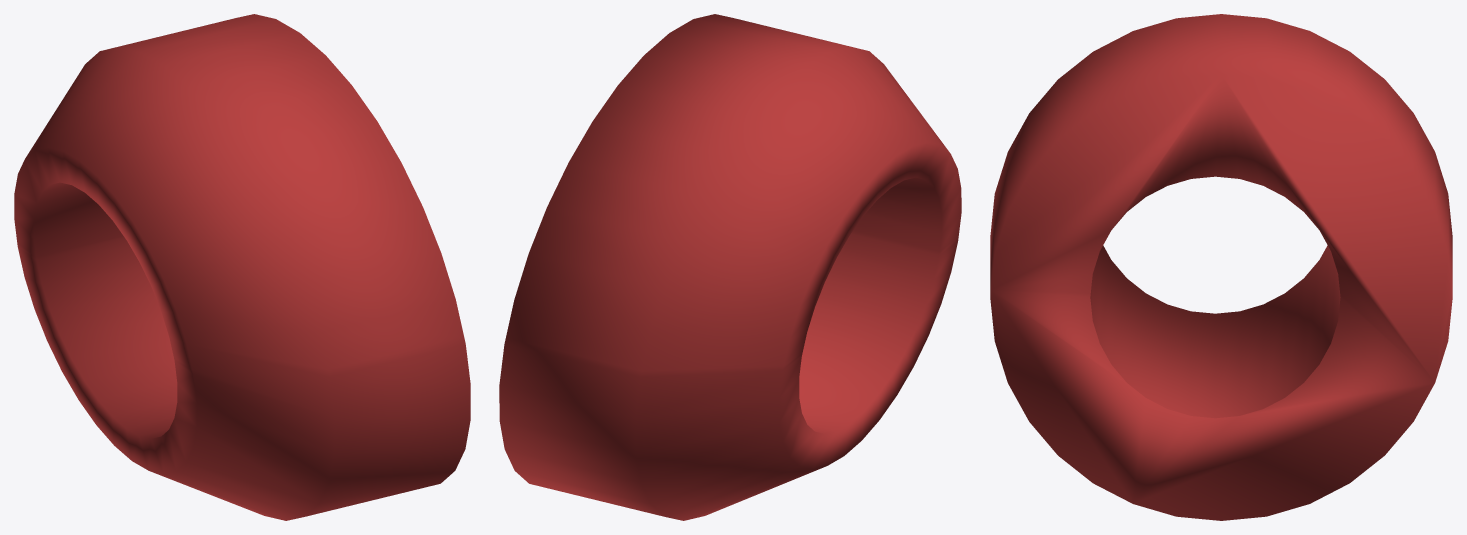
The model's file is Thruster.fbx.
The picture shows the model from 3 angles, left to right: view 1: azimuth 30°, elevation 25°; view 2: azimuth 150°, elevation 25°; view 3: azimuth 270°, elevation 25°; orthographic projection. The views are drawn at different scales.
Parts seen in each view (by area): view 1: ThrusterRight; view 2: ThrusterRight; view 3: ThrusterRight.
Part boxes in pixels (x1,y1,x2,y2): ThrusterRight: (14,14,470,520); ThrusterRight: (499,14,961,520); ThrusterRight: (990,14,1452,520).
Size of the model in its own units: 1.36 by 1.97 by 2.
